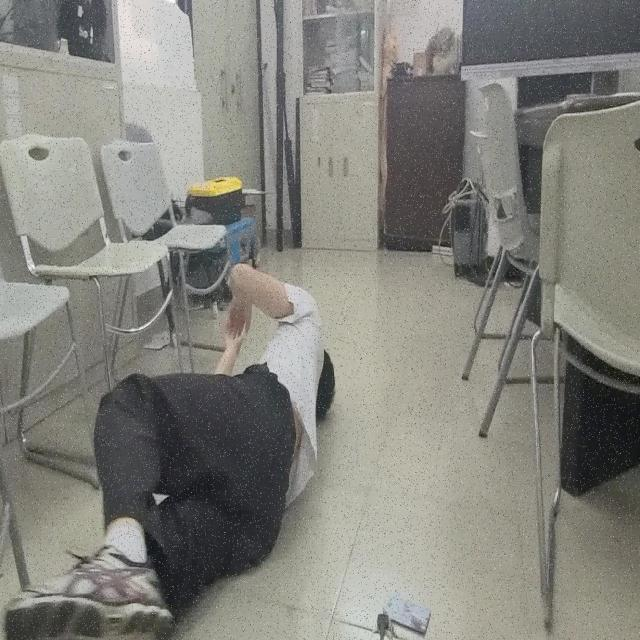fall: (0, 263, 336, 639)
